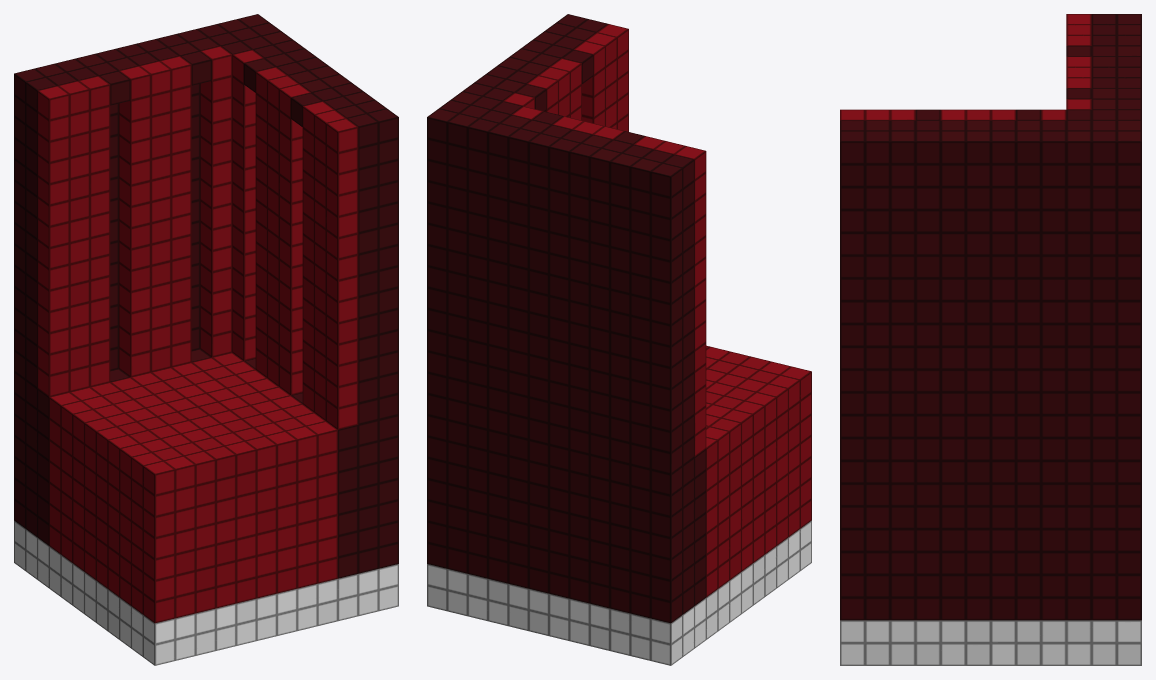
The model's file is banquette_corner.glb.
3 renders of one model, left to right at view 1: azimuth 30°, elevation 25°; view 2: azimuth 150°, elevation 25°; view 3: azimuth 270°, elevation 25°, orthographic. The views are drawn at different scales.
Parts seen in each view (by area): view 1: banquette_corner; view 2: banquette_corner; view 3: banquette_corner.
Part boxes in pixels (<box>): banquette_corner: <box>14,14,398,665</box>; banquette_corner: <box>427,14,811,665</box>; banquette_corner: <box>840,14,1141,665</box>.
Size of the model in its own units: 0.6 by 1.15 by 0.6.
3 materials, 3 textured.
